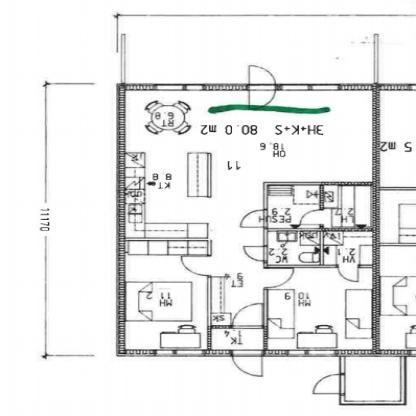bathroom: (266, 183, 376, 230), (263, 229, 377, 268)
door: (243, 63, 282, 112), (225, 346, 269, 380), (230, 298, 271, 330), (243, 86, 282, 114), (178, 252, 216, 279), (311, 370, 350, 396), (263, 267, 301, 292), (245, 61, 278, 88), (332, 259, 366, 284), (234, 208, 272, 230), (294, 207, 335, 227), (236, 243, 272, 263)
perimeter: (123, 84, 379, 352)
window: (281, 79, 344, 93), (147, 346, 208, 359), (280, 347, 340, 360), (151, 80, 212, 90)
